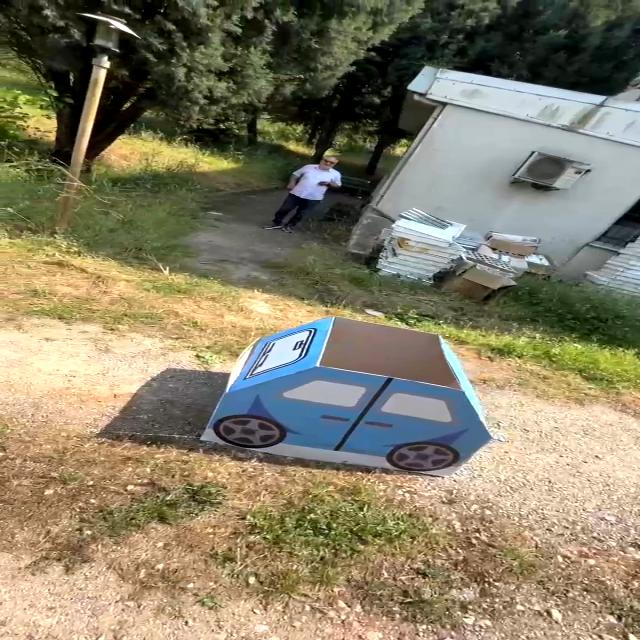blue_car: (188, 312, 501, 479)
